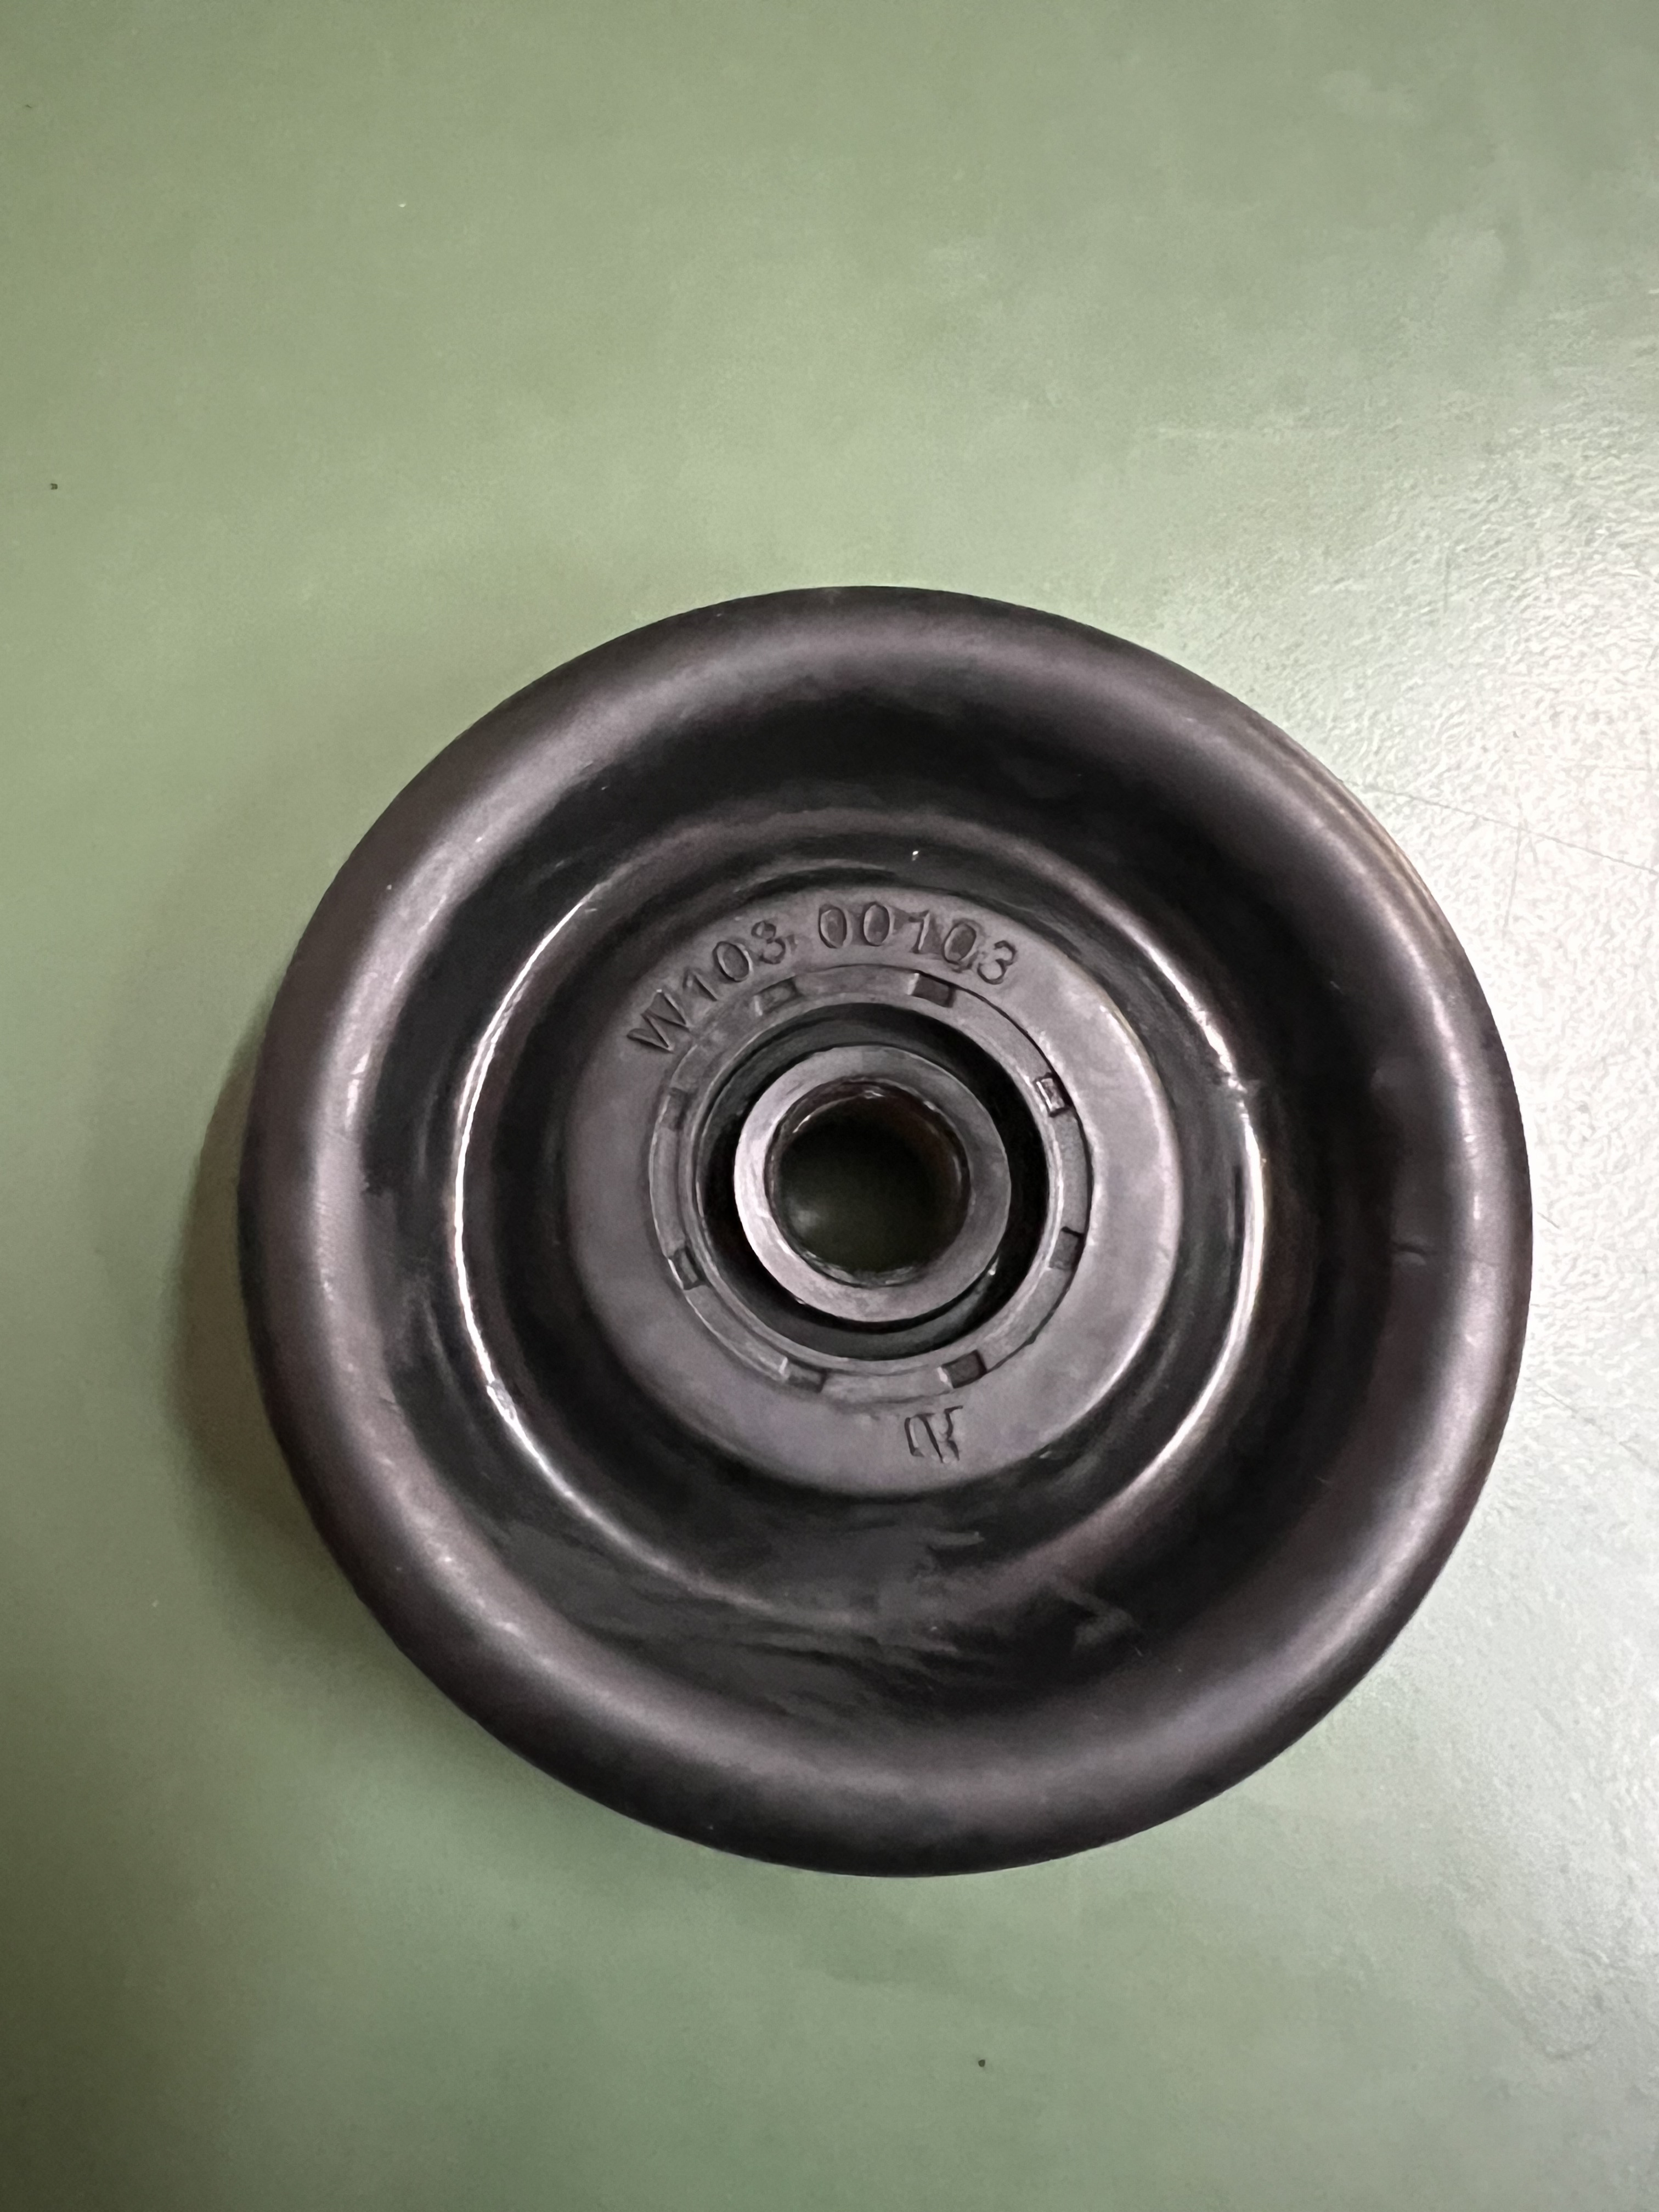lever: (239, 578, 1541, 1878)
